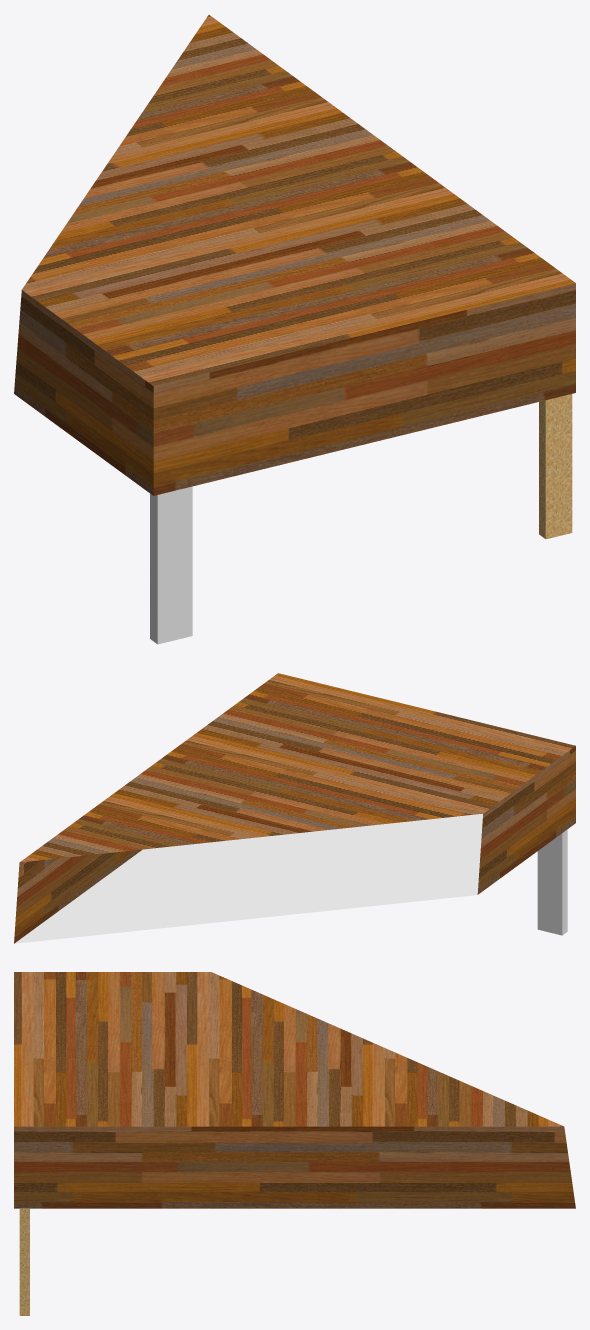
Rendered from table_half1.fbx.
3 views of the same model, one above another, from view 1: azimuth 30°, elevation 25°; view 2: azimuth 150°, elevation 25°; view 3: azimuth 270°, elevation 25° (orthographic). The views are drawn at different scales.
Parts seen in each view (by area): view 1: polySurface33; view 2: polySurface33; view 3: polySurface33.
Boxes of the visible parts, left/top/right/bottom form: polySurface33: left=14, top=15, right=575, bottom=644; polySurface33: left=14, top=673, right=575, bottom=943; polySurface33: left=14, top=972, right=575, bottom=1315.
Bounding box in the file's own units: 100 × 59.45 × 154.
